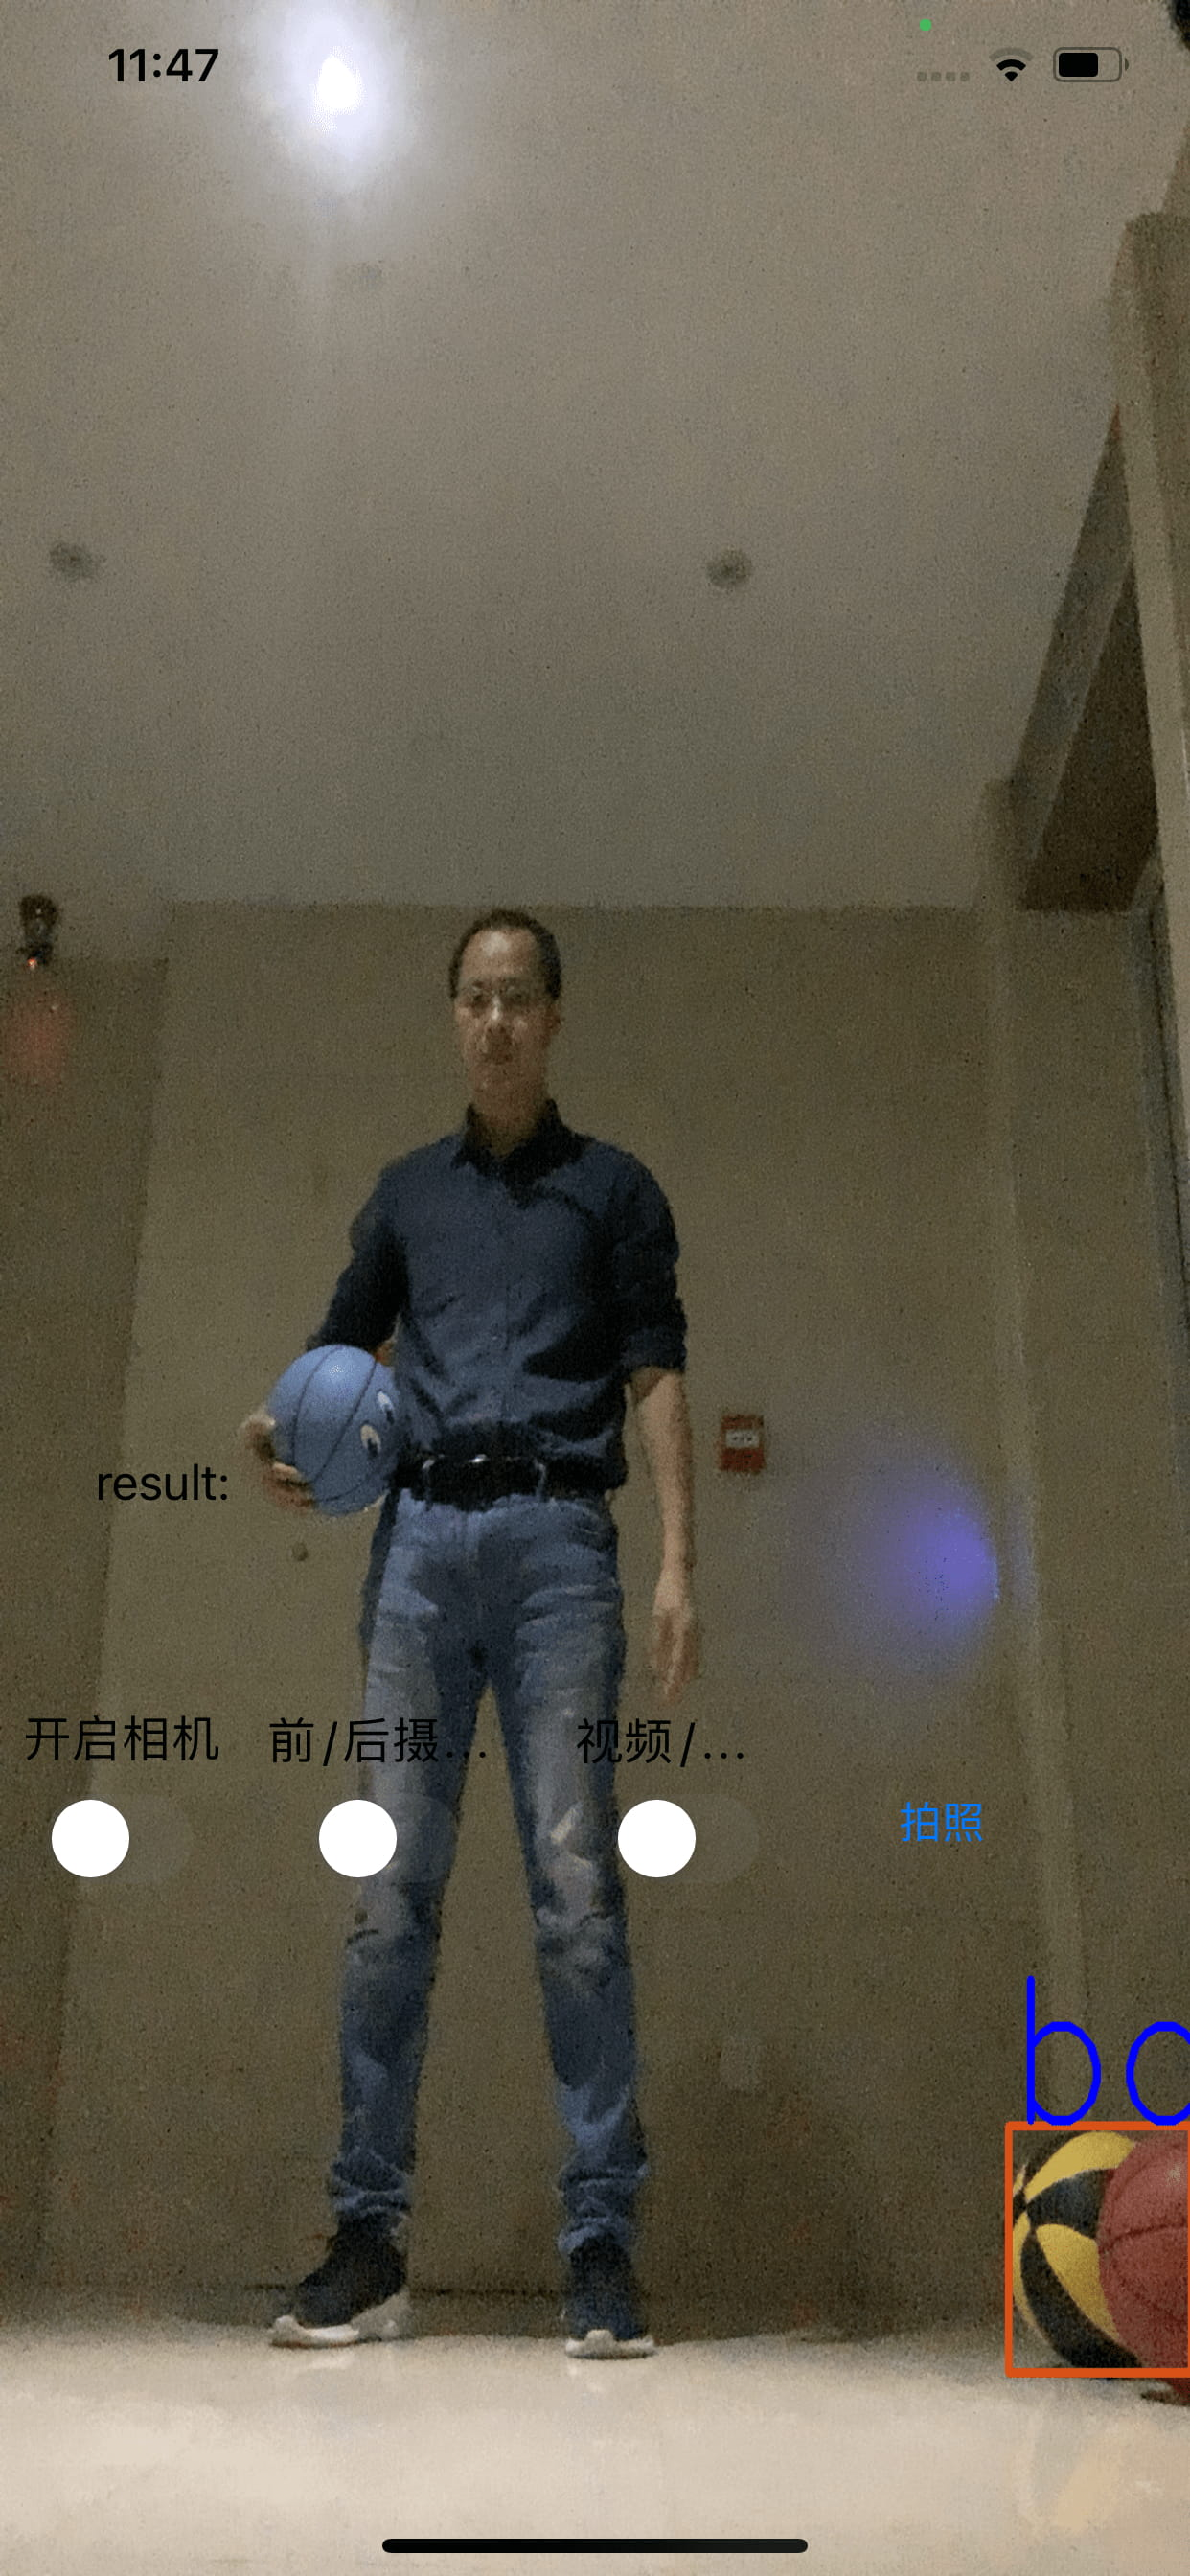ball: (1016, 2127, 1119, 2366), (266, 1341, 406, 1516), (1098, 2136, 1188, 2394)
